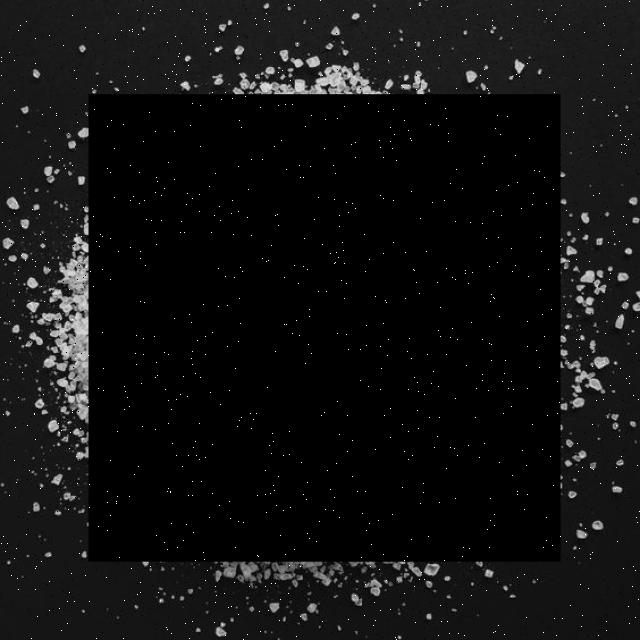Sugar: (89, 95, 560, 563)
